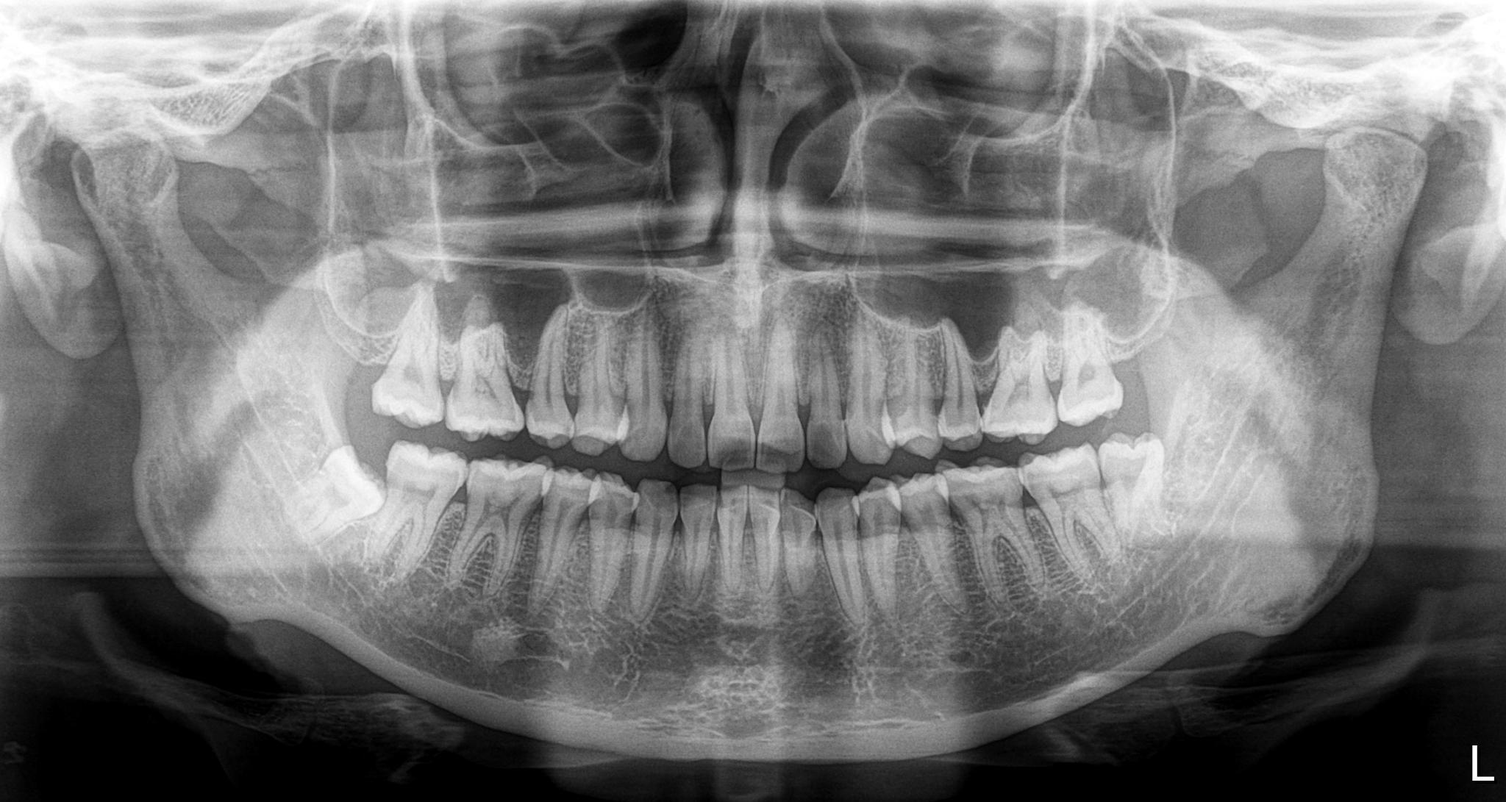Dental Caries: (428, 368, 460, 405), (1074, 360, 1102, 392)
Impacted Third Molar: (285, 454, 379, 531)
